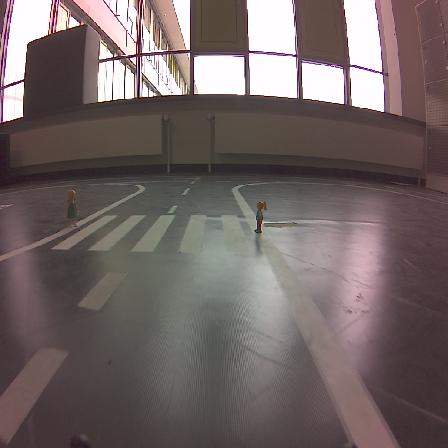CHILD: (255, 202, 266, 232)
PERSON: (67, 190, 77, 227)
